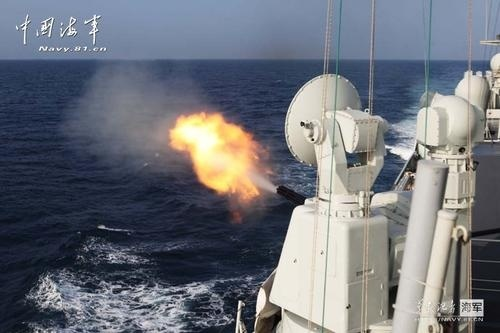fire: (167, 108, 273, 200)
